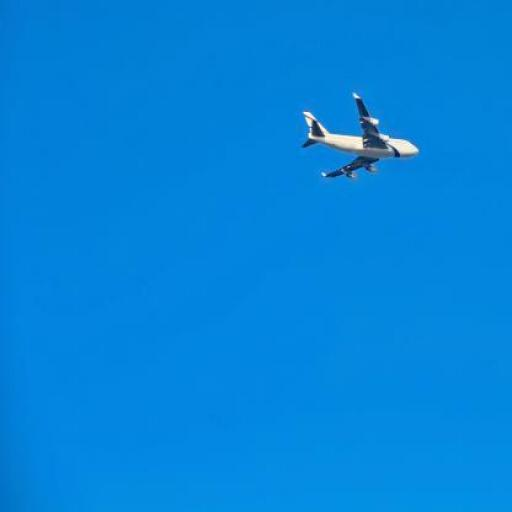aircraft: (301, 92, 420, 181)
